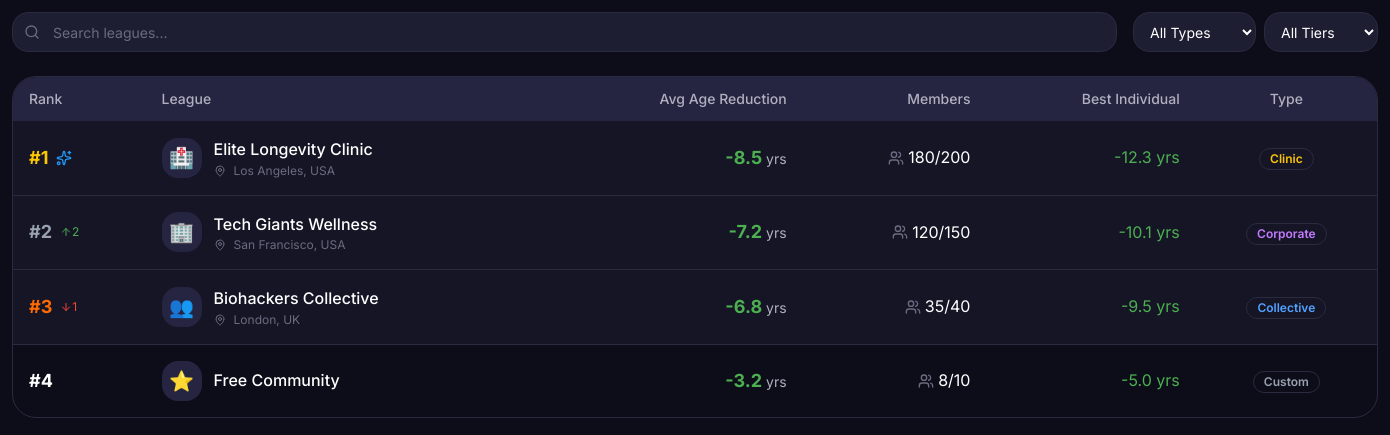
Test: LeagueLeaderboardTable › Filters › filters by league type
Select the type filter dropdown and choose "Clinics"
Select "Clinics" in the 1st dropdown at (1194, 32), box [1133,12,1256,52]
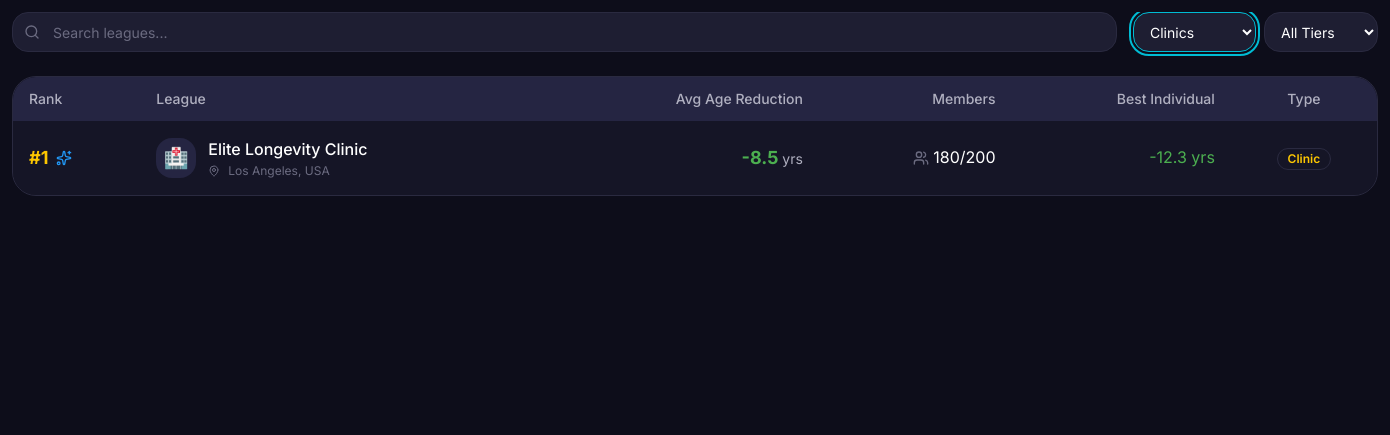
Expected: the text "Elite Longevity Clinic" is shown, [208,137,368,163]
Result: the text "Tech Giants Wellness" is gone
